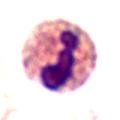eosi: (21, 18, 100, 93)
